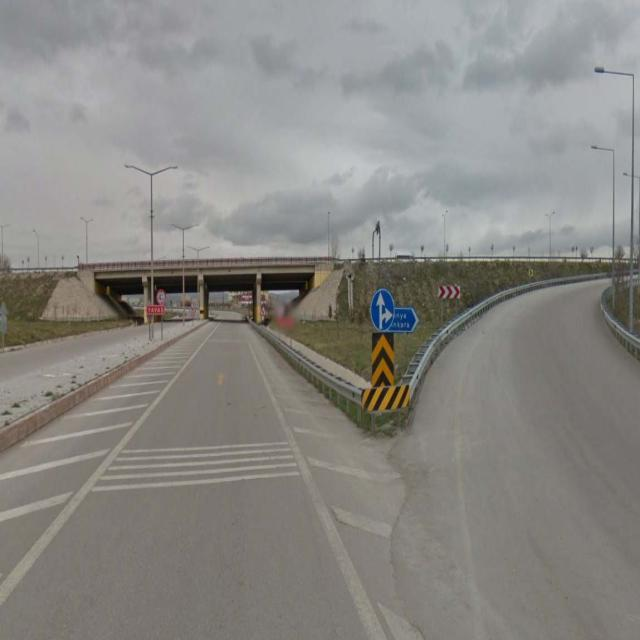ilerisag: (372, 286, 392, 332)
